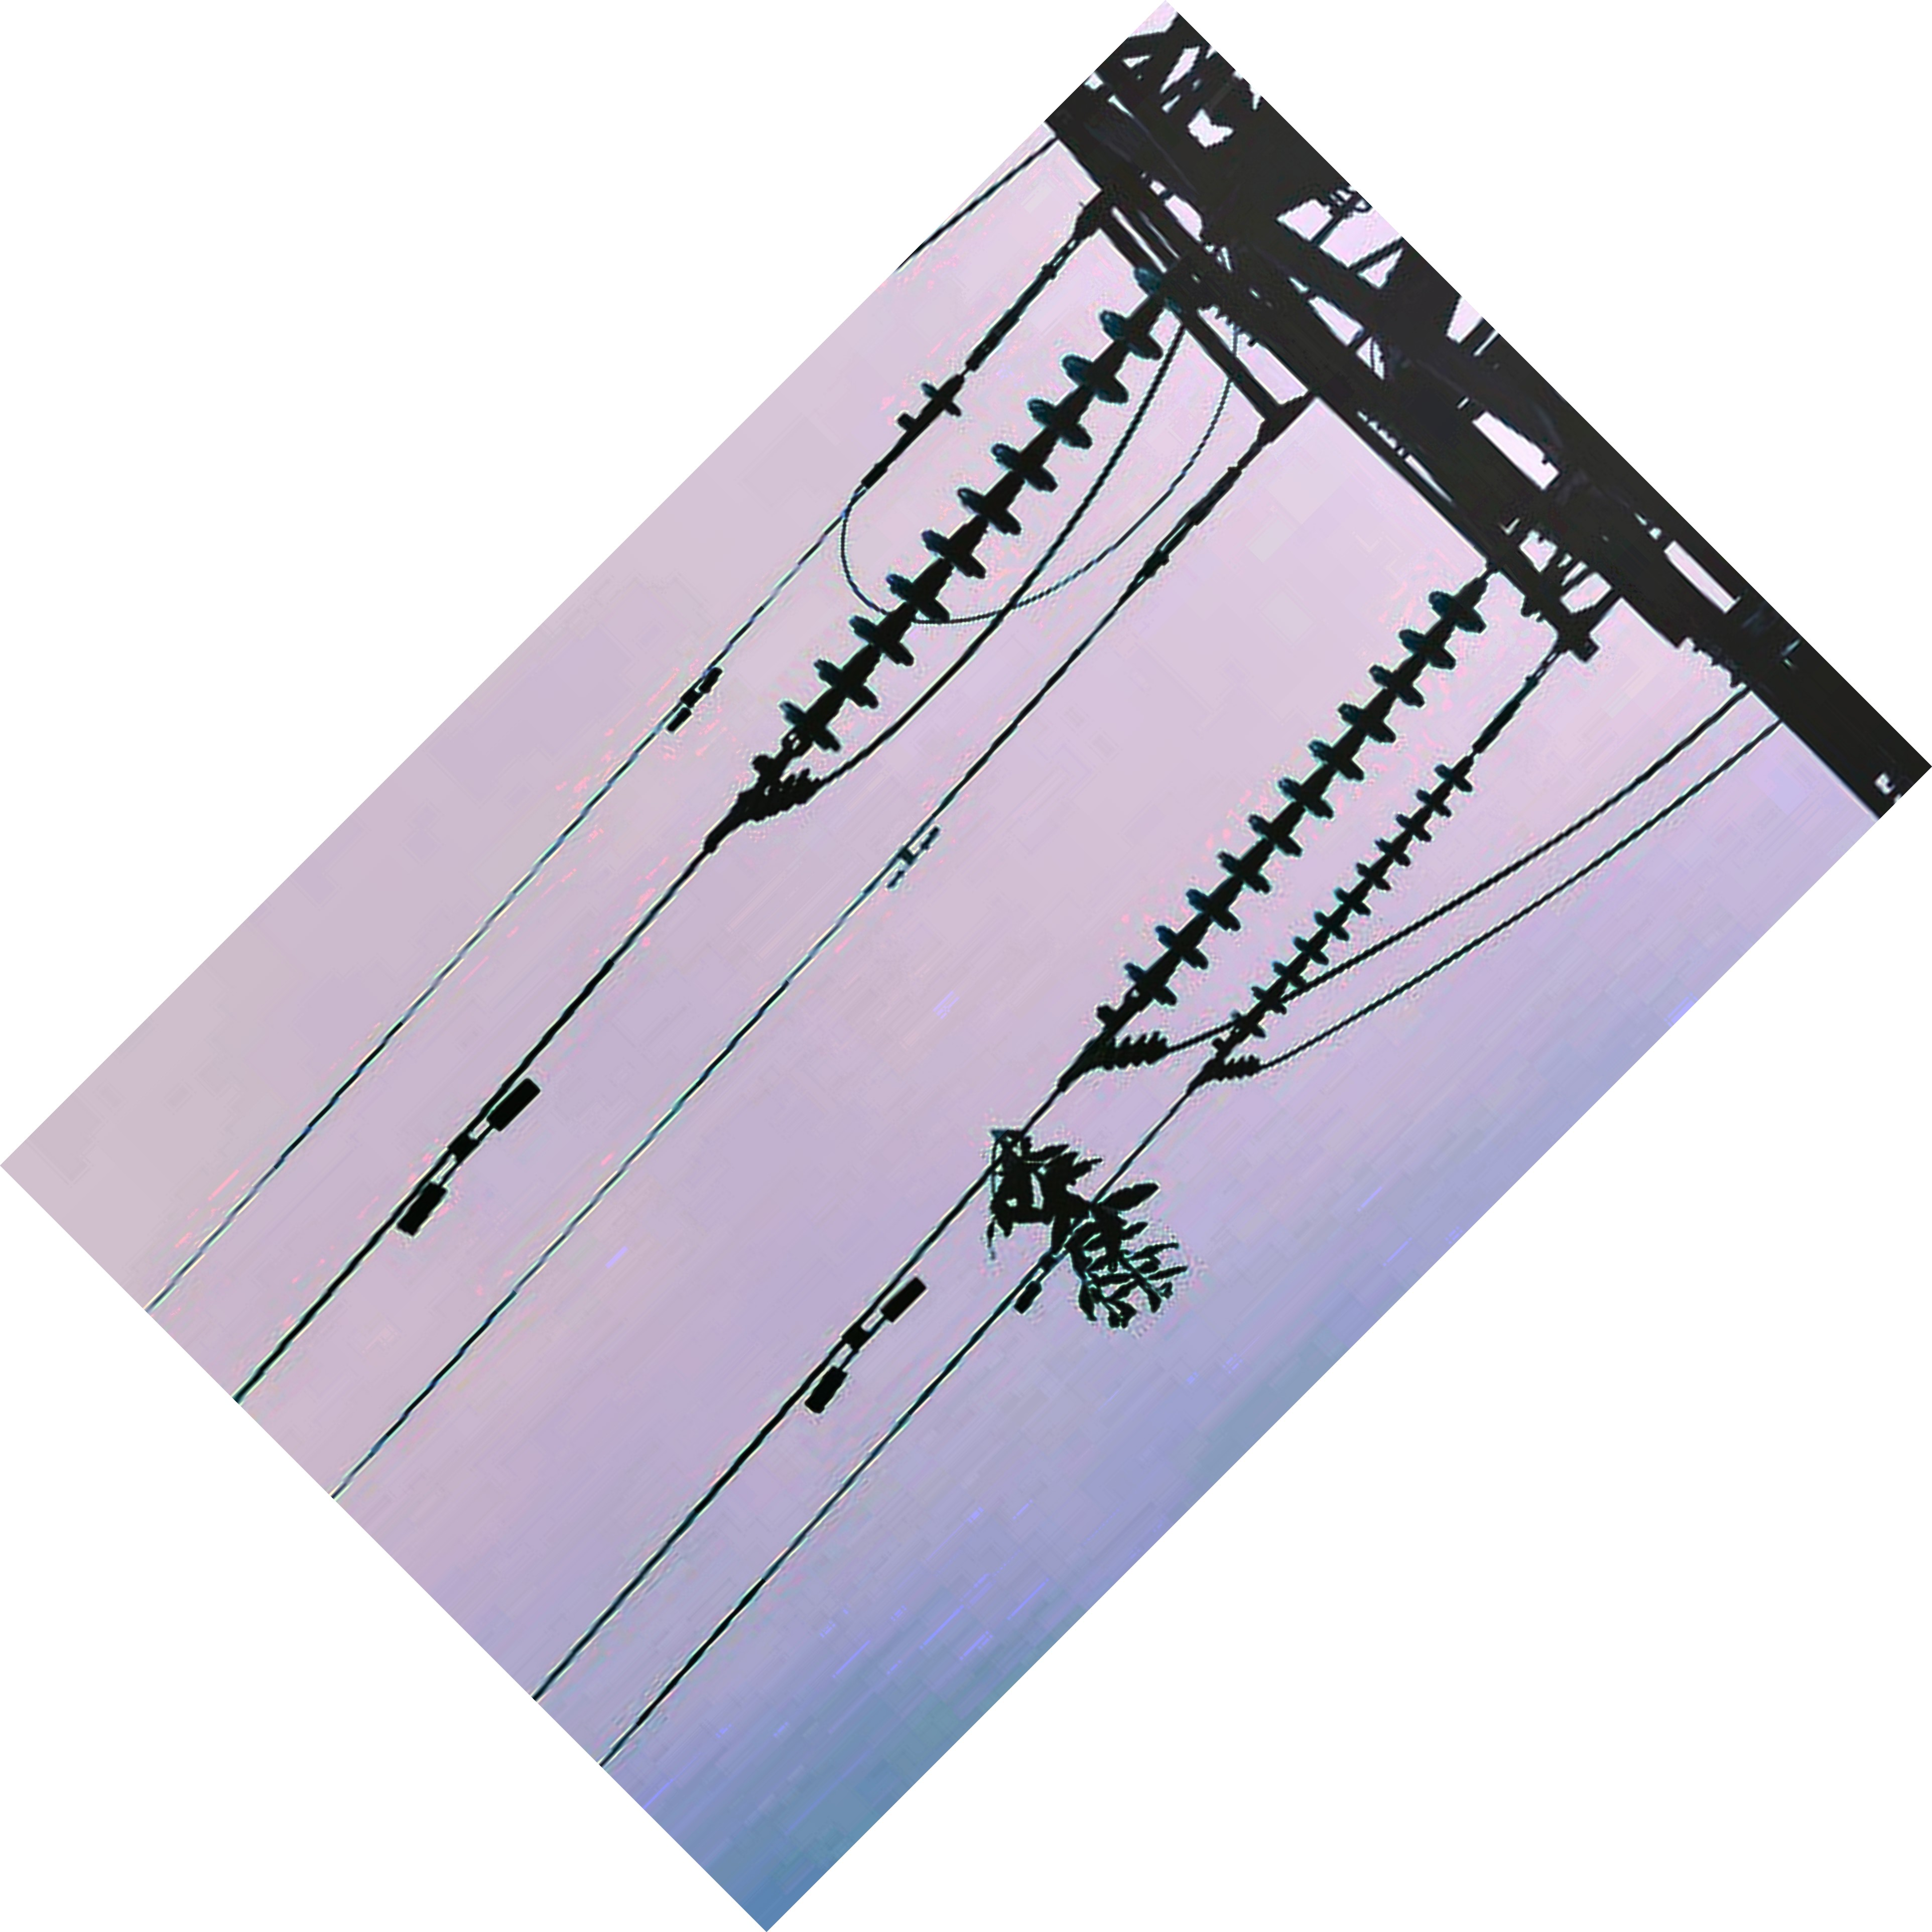wire foreign body: (962, 1104, 1201, 1350)
